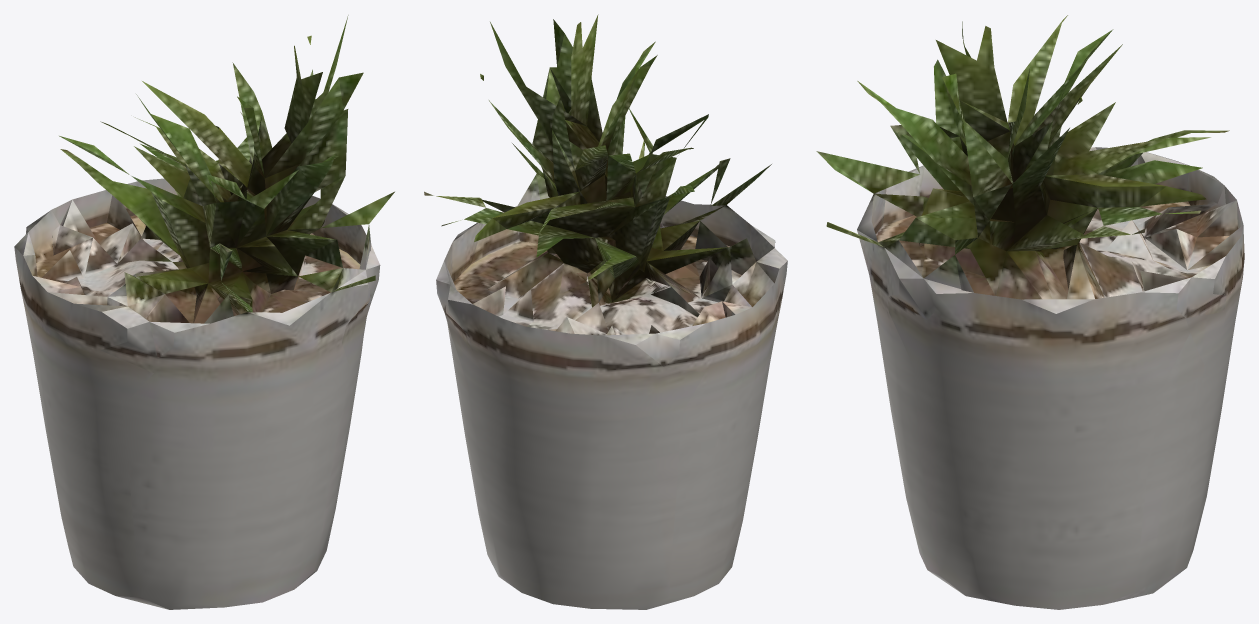
File: plant_small.glb
3 views of the same model, side by side, from view 1: azimuth 30°, elevation 25°; view 2: azimuth 150°, elevation 25°; view 3: azimuth 270°, elevation 25° (orthographic). The views are drawn at different scales.
Parts seen in each view (by area): view 1: mesh; view 2: mesh; view 3: mesh.
Boxes of the visible parts, bbox=[...] form: mesh: bbox=[14, 15, 394, 609]; mesh: bbox=[424, 14, 787, 609]; mesh: bbox=[816, 15, 1244, 609].
Bounding box in the file's own units: 0.1694 × 0.27 × 0.186.
1 material, 1 textured.
